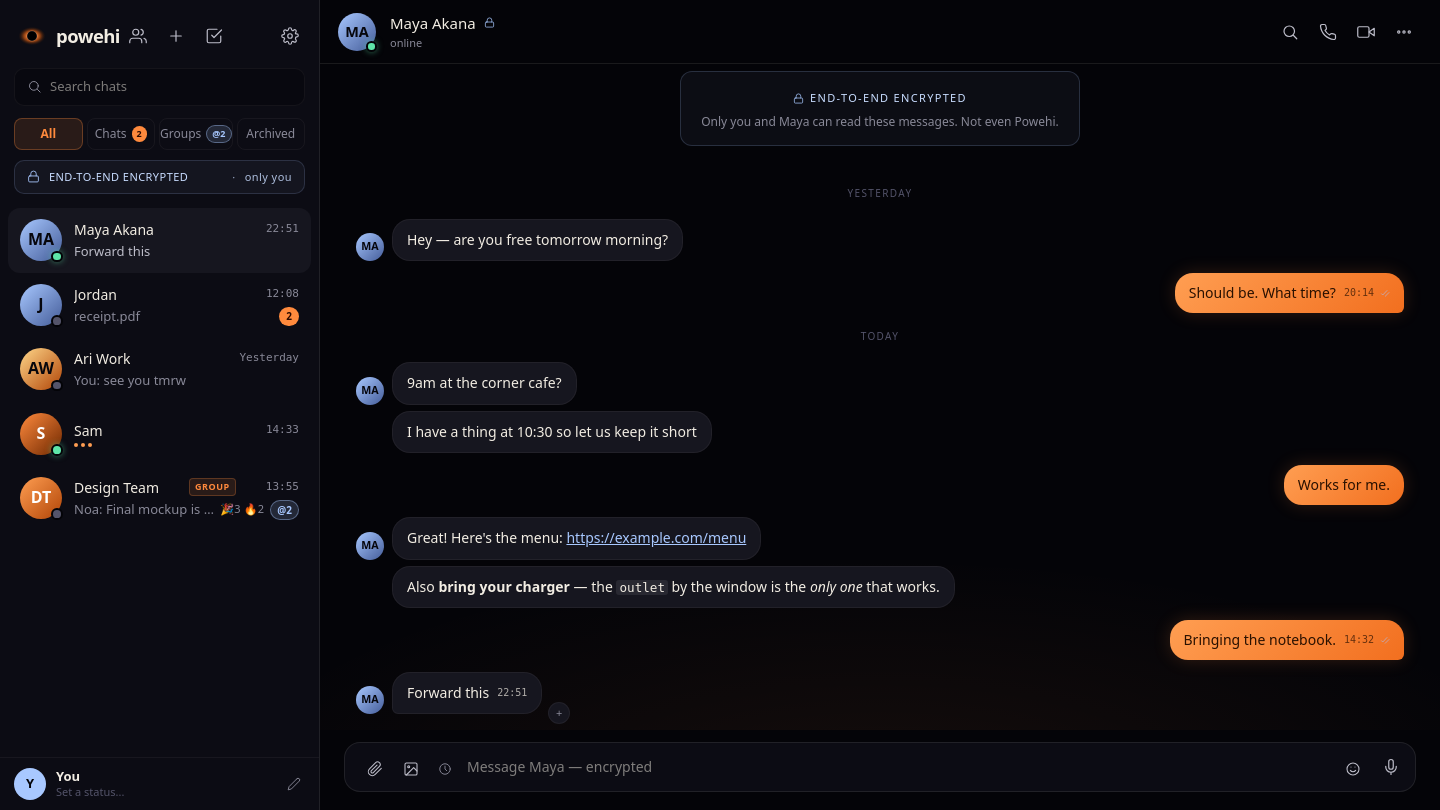
ChatLayout — message forwarding › clicking forward button opens the forward modal
(page scrolled)
Hover over the element with test id "message-bubble" showing "MA Forward this 22:51 +".
mouse_move(463, 698)  # box [356,672,570,724]
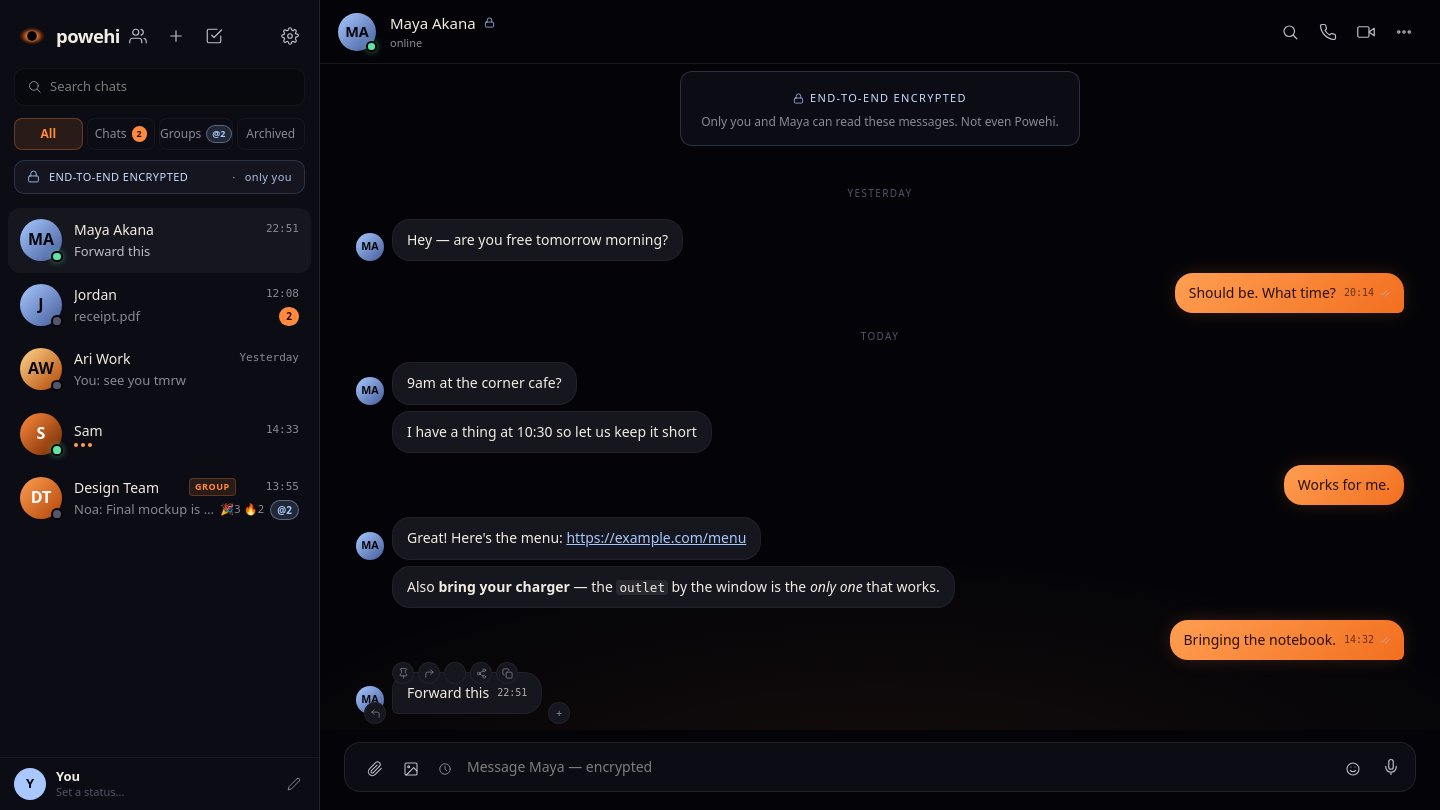
Click the button with test id "forward-button".
click(429, 673)  # box [418,662,440,684]
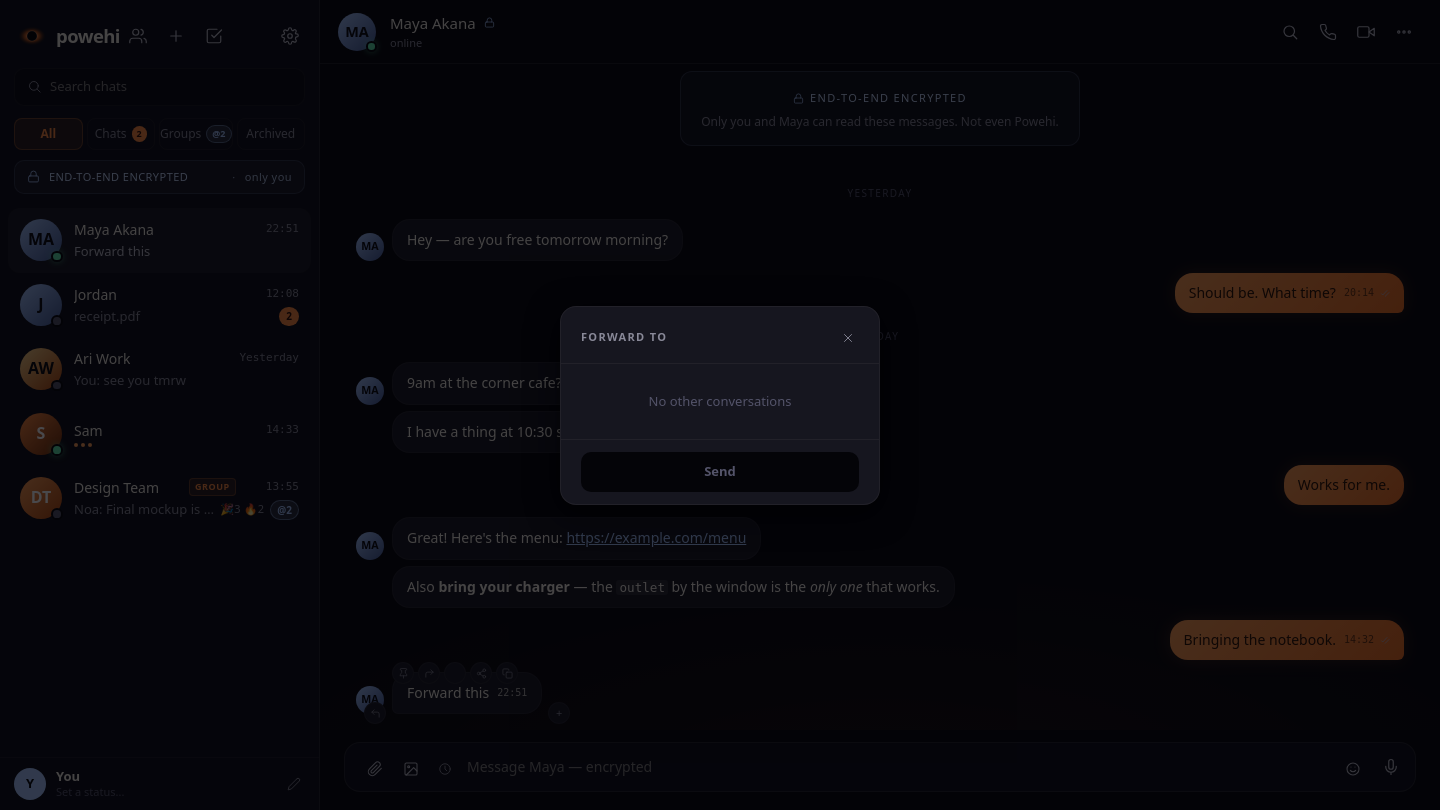
Now the element with test id "forward-modal" is shown, box [560,306,880,504]
